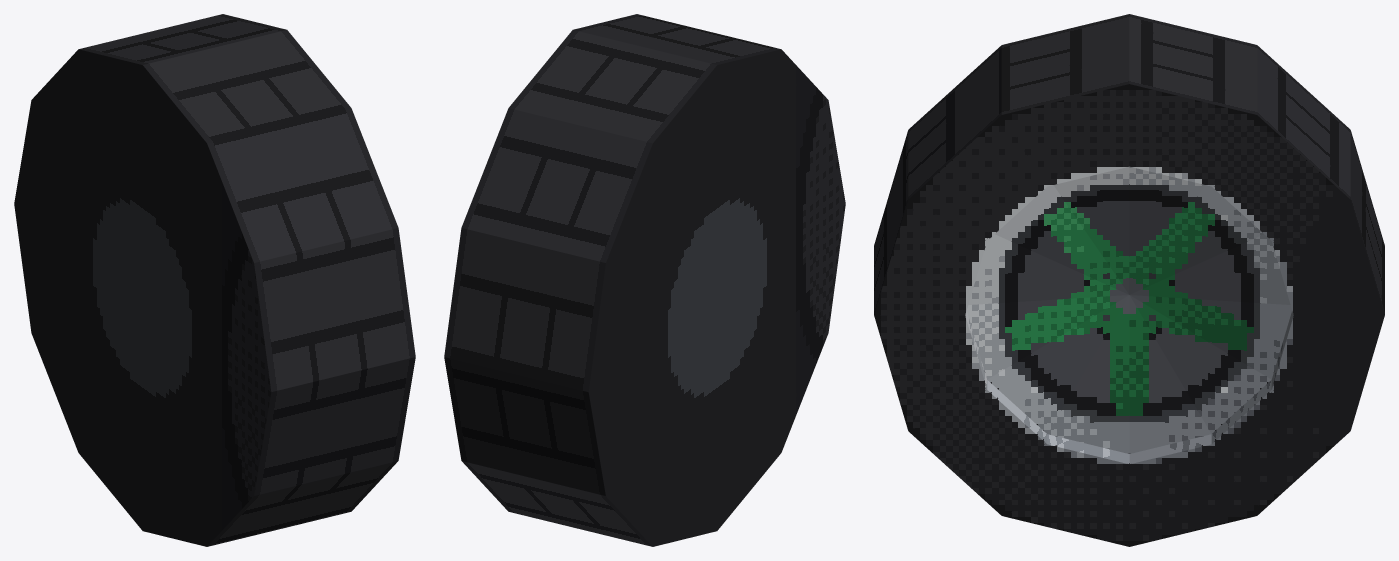
The model's file is wheel_five.glb.
3 views of the same model, side by side, from view 1: azimuth 30°, elevation 25°; view 2: azimuth 150°, elevation 25°; view 3: azimuth 270°, elevation 25° (orthographic).
Parts seen in each view (by area): view 1: wheel_five; view 2: wheel_five; view 3: wheel_five.
Part boxes in pixels (x1,y1,x2,y2): wheel_five: [14, 14, 415, 546]; wheel_five: [444, 14, 845, 546]; wheel_five: [874, 14, 1384, 546].
Bounding box in the file's own units: 0.205 × 0.6319 × 0.6319.
Materials: 1 (1 with a texture image).
